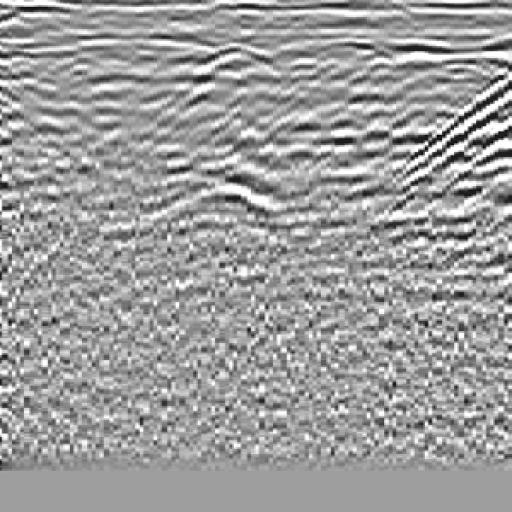metalic: (168, 29, 291, 254)
nonmetalic: (381, 51, 512, 260)
